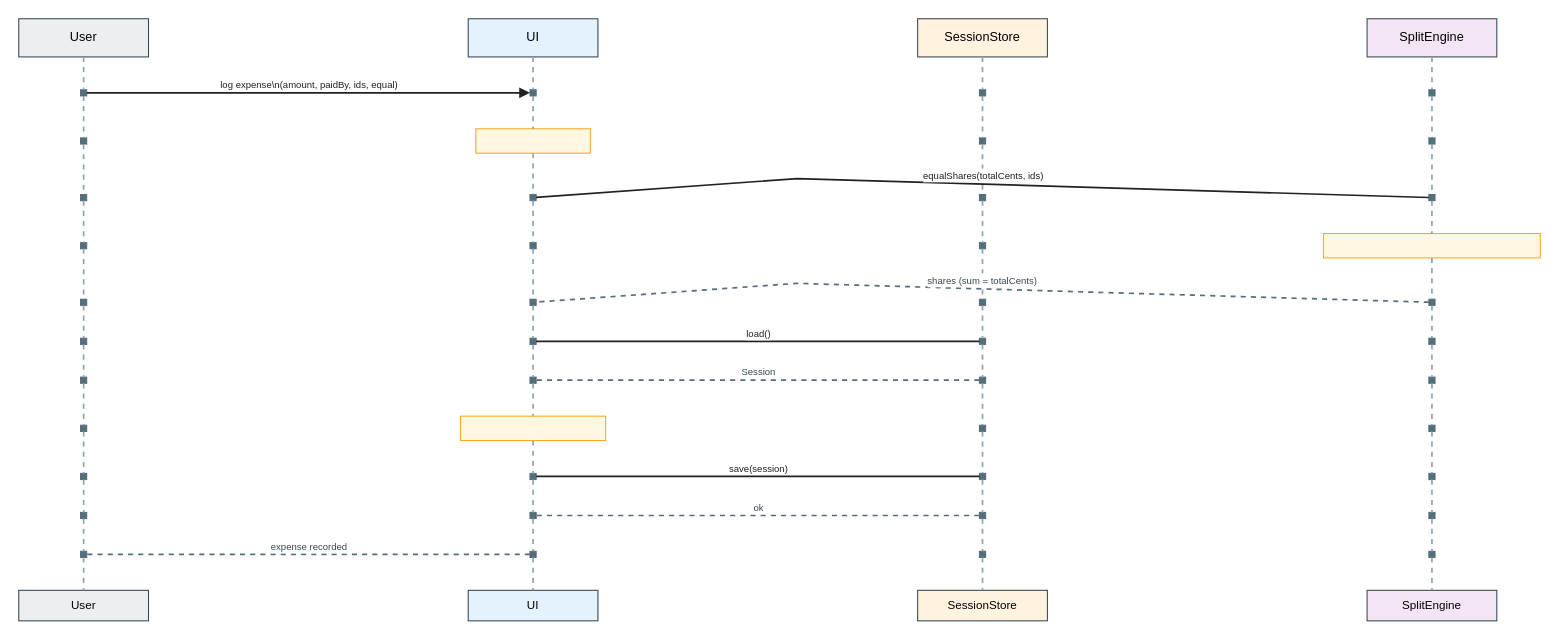
Some shapes in this 1559 by 639 pixel diagram are drawn without their labels. Here are the shapes that lost their labels. From the top down, the centre of each, then its label:
At (x=532, y=140): "toCents(amount)".
At (x=1431, y=245): "floor; leftover by remainder\nties: sorted participant id".
At (x=532, y=428): "append Expense{splitType: equal}".
